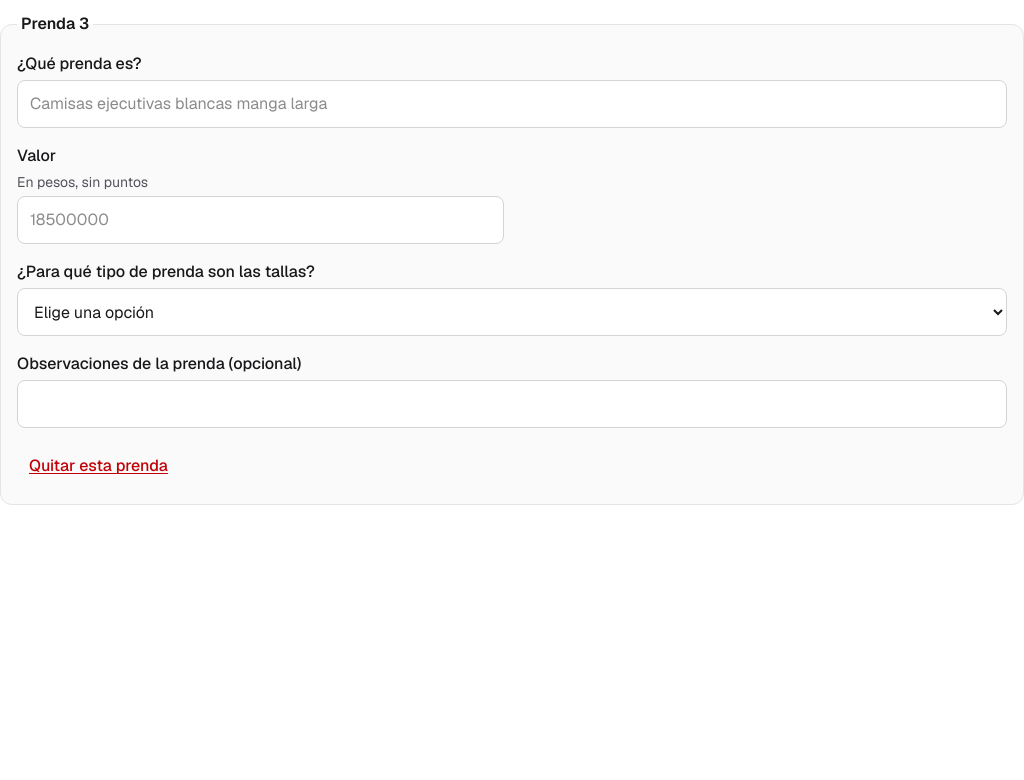
FilaPrenda · tallaje › con 'Otro' vuelven los campos de siempre
This screenshot has width=1024, height=780.
Select "Otro (escribir las tallas)" in the dropdown labelled "¿Para qué tipo de prenda son las tallas?" at {"x": 512, "y": 312}, box [17, 288, 1007, 336]
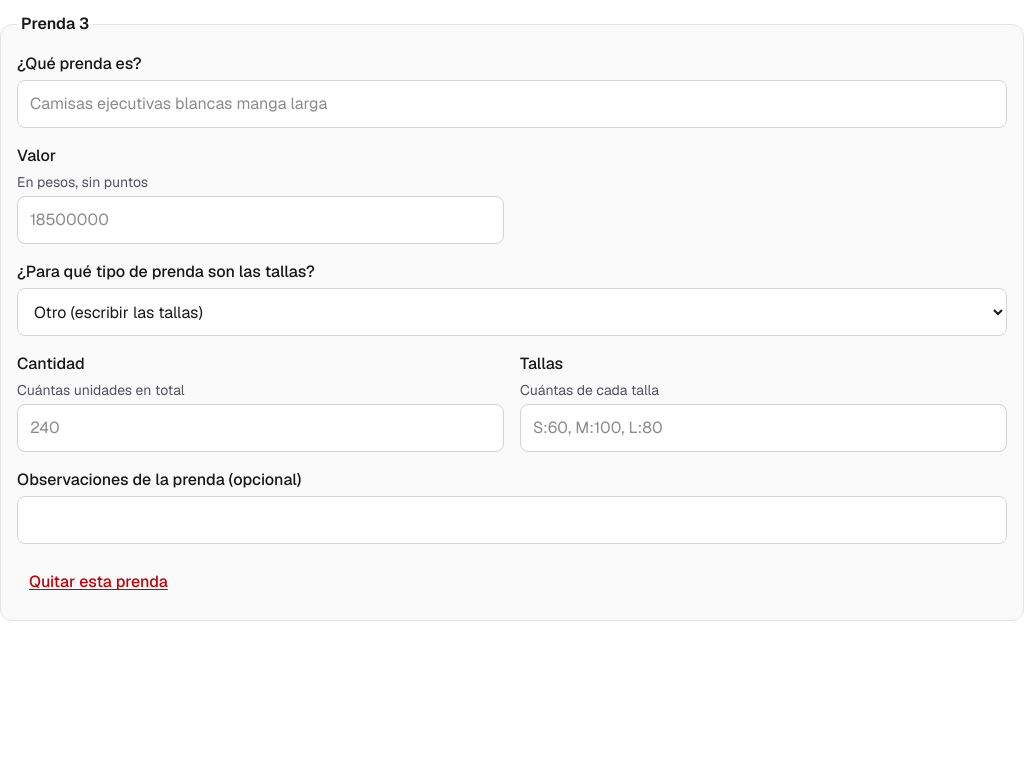
Expected: the field labelled "Cantidad" is shown, [17, 404, 504, 452]
Expected: the field labelled "Tallas" is shown, [520, 404, 1007, 452]
